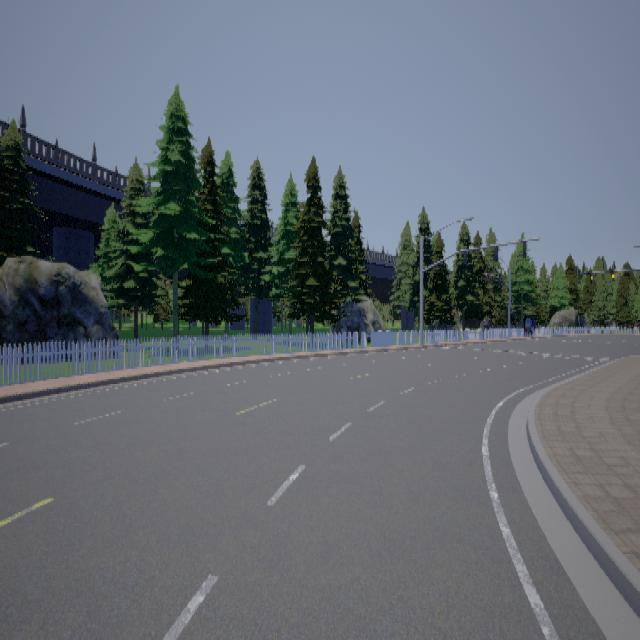yellow_light: (590, 272, 593, 282), (611, 270, 614, 280)
